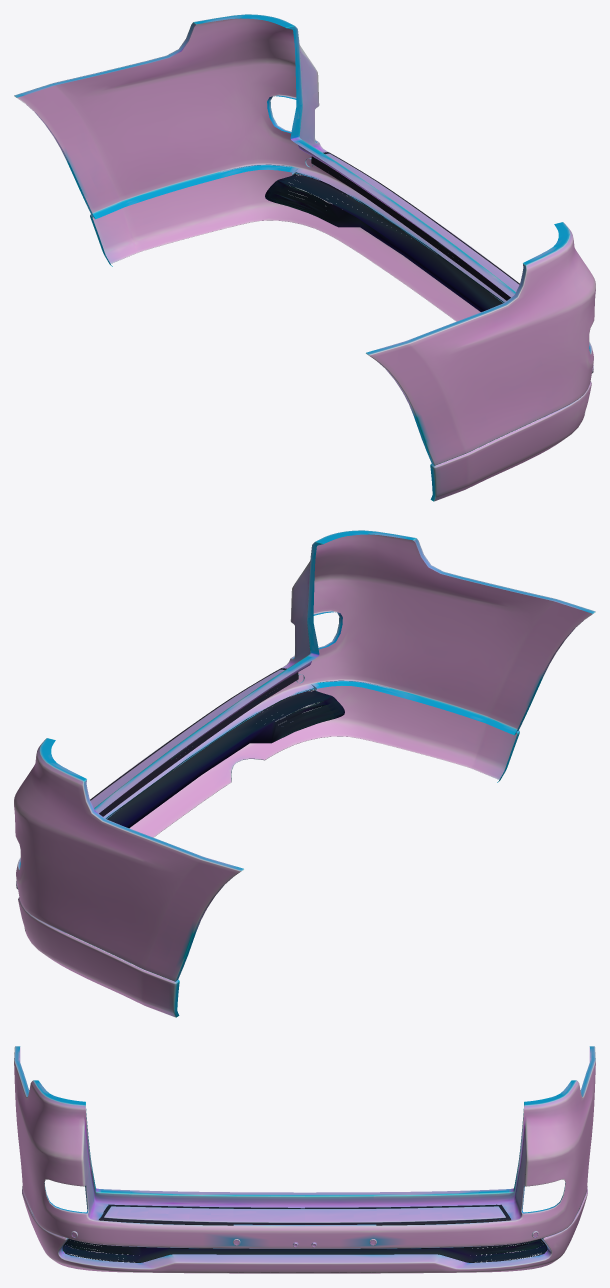
Rendered from bumper_rear.glb.
The picture shows the model from 3 angles, top to bottom: view 1: azimuth 30°, elevation 25°; view 2: azimuth 150°, elevation 25°; view 3: azimuth 270°, elevation 25°; orthographic projection. The views are drawn at different scales.
Visible parts, largest first — view 1: Rear_Bumper_8, carpaint_7, black_12, chrome_4; view 2: Rear_Bumper_8, carpaint_7, black_12, chrome_4; view 3: Rear_Bumper_8, carpaint_7, black_12, chrome_4.
Part boxes in pixels (left/top/right/bottom): Rear_Bumper_8: left=14, top=14, right=595, bottom=465; carpaint_7: left=90, top=164, right=591, bottom=501; black_12: left=265, top=152, right=519, bottom=311; chrome_4: left=325, top=153, right=519, bottom=291; Rear_Bumper_8: left=14, top=530, right=595, bottom=981; carpaint_7: left=18, top=680, right=519, bottom=1017; black_12: left=90, top=668, right=344, bottom=828; chrome_4: left=90, top=669, right=284, bottom=807; Rear_Bumper_8: left=14, top=1046, right=595, bottom=1248; carpaint_7: left=22, top=1186, right=587, bottom=1273; black_12: left=62, top=1204, right=547, bottom=1262; chrome_4: left=104, top=1206, right=505, bottom=1247.
Size of the model in its own units: 0.911 by 0.6743 by 1.97.
